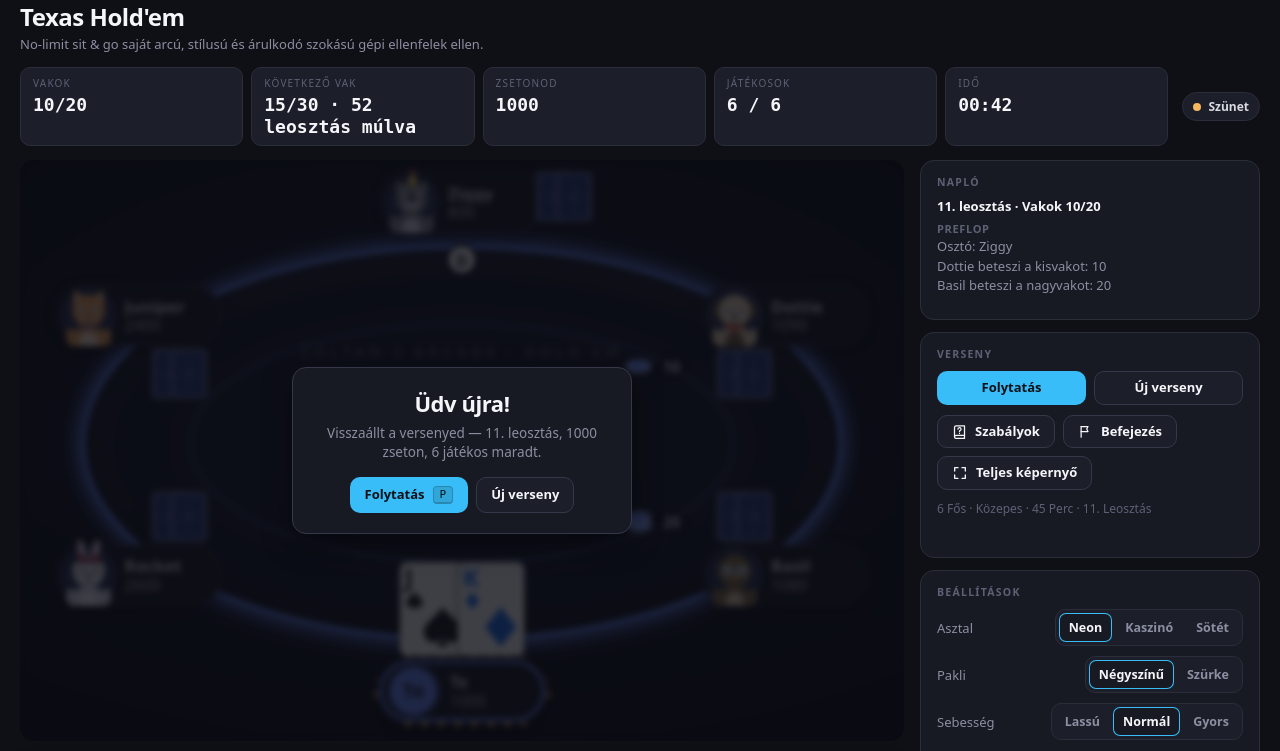
Test case: Hold’em finish early › confirms with the points of the current place, ranks them once and shows the finished card
Click the button "Folytatás P" at (409, 495), box [350,477,468,513]
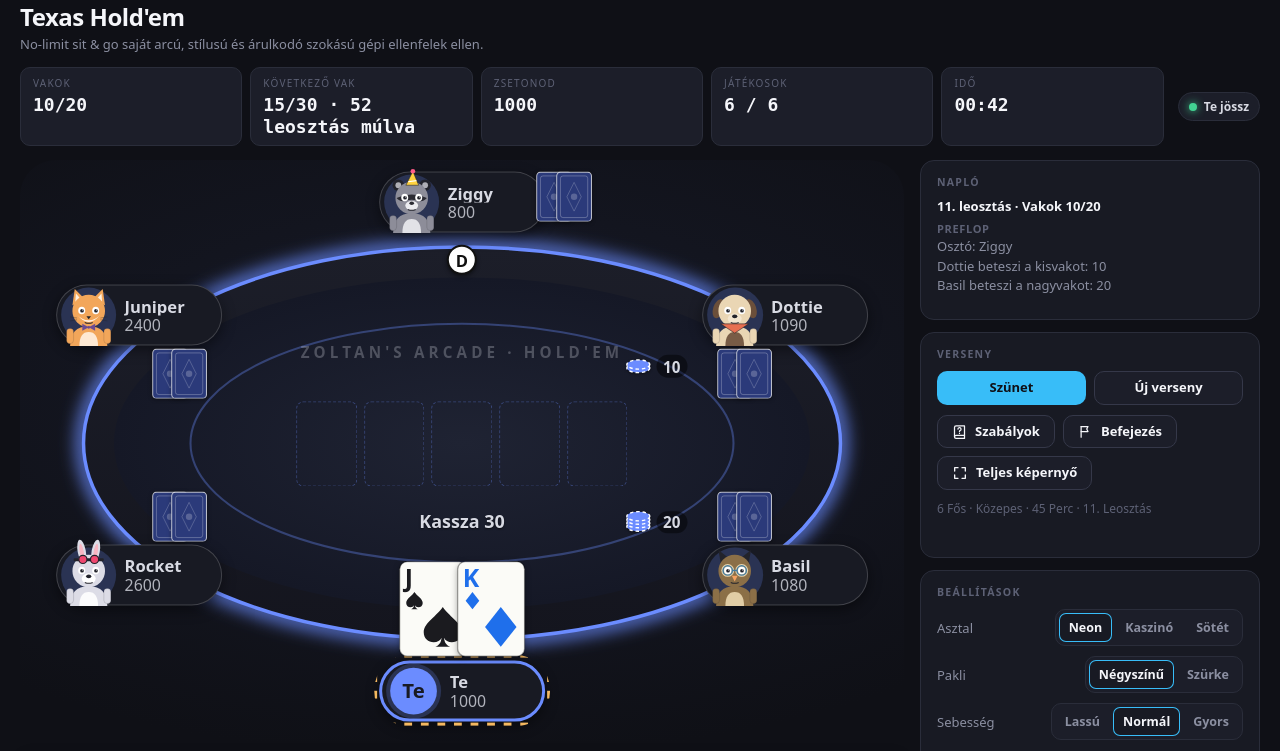
Click the button "Befejezés" at (1120, 431), box [1063,415,1177,448]
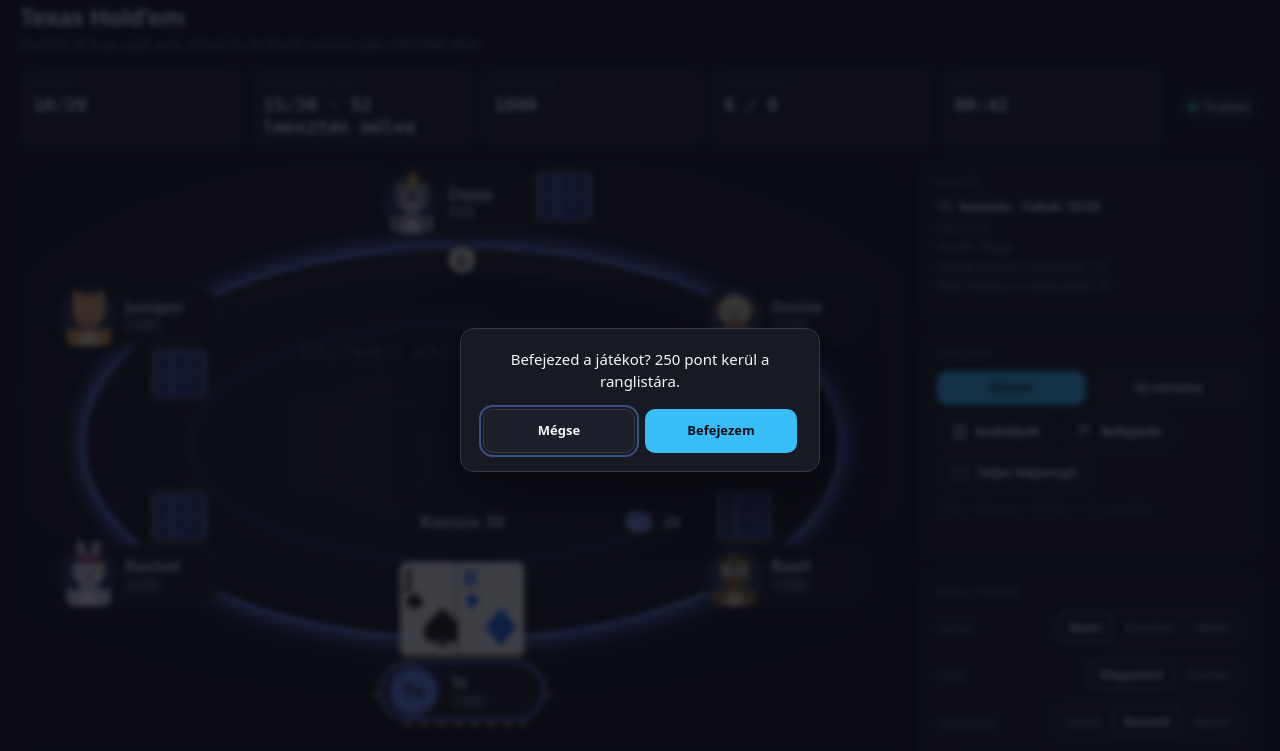
Click the button "Befejezem" at (721, 431), box [645,409,797,453]
Wait 20000 ms
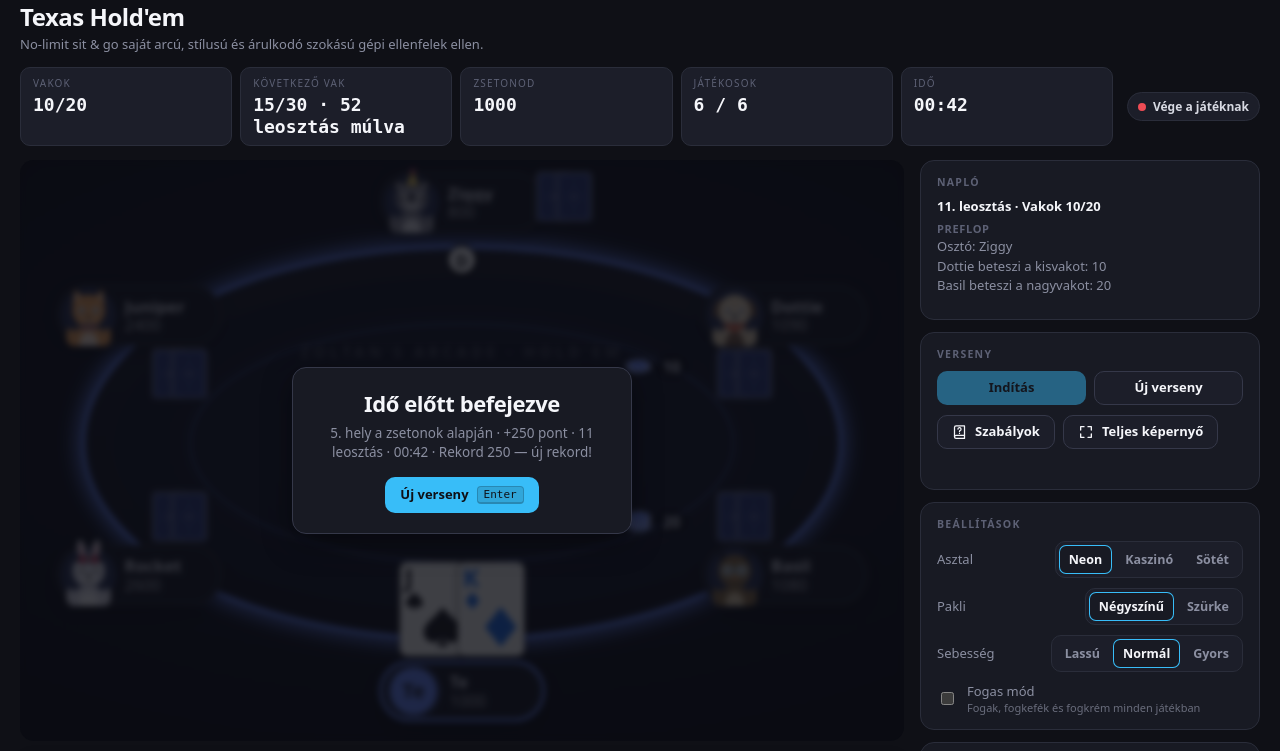
Expected: the dialog "Idő előtt befejezve" shows "5. hely a zsetonok alapján", [330,424,594,461]
Expected: the button "Befejezés" is gone
